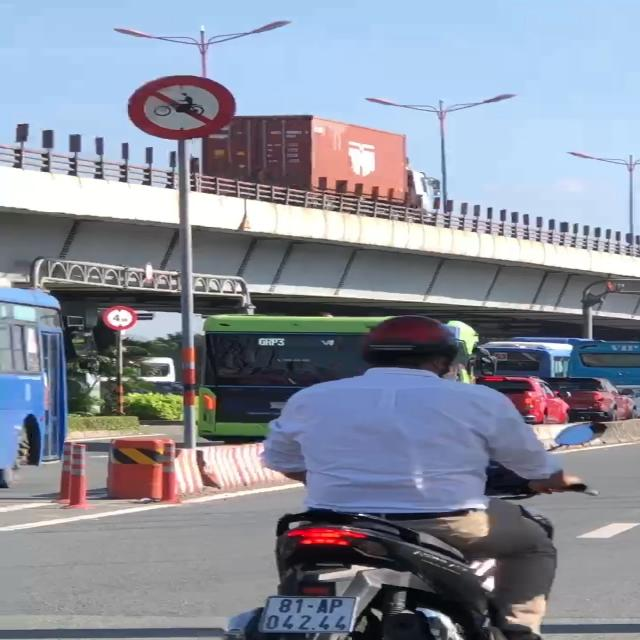Bien bao cam xe may: (122, 73, 235, 142)
